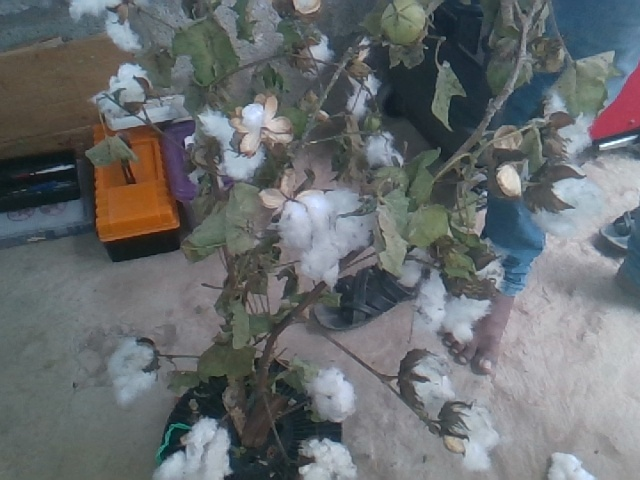cotton: (285, 186, 365, 270), (154, 417, 232, 480), (418, 272, 483, 347), (104, 334, 159, 412), (313, 367, 358, 427), (457, 407, 498, 471), (301, 434, 354, 480), (91, 4, 143, 50), (413, 353, 447, 414), (109, 64, 149, 110), (65, 1, 128, 20), (239, 105, 264, 137)
